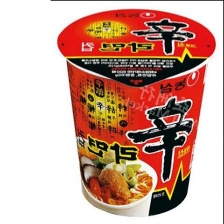paper_cup: (53, 4, 218, 221)
